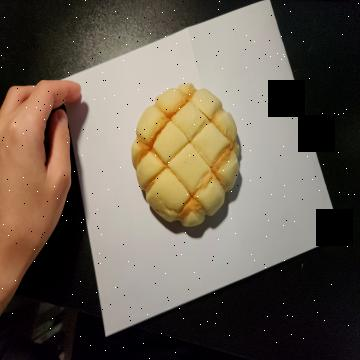melon_bread: (130, 83, 240, 231)
